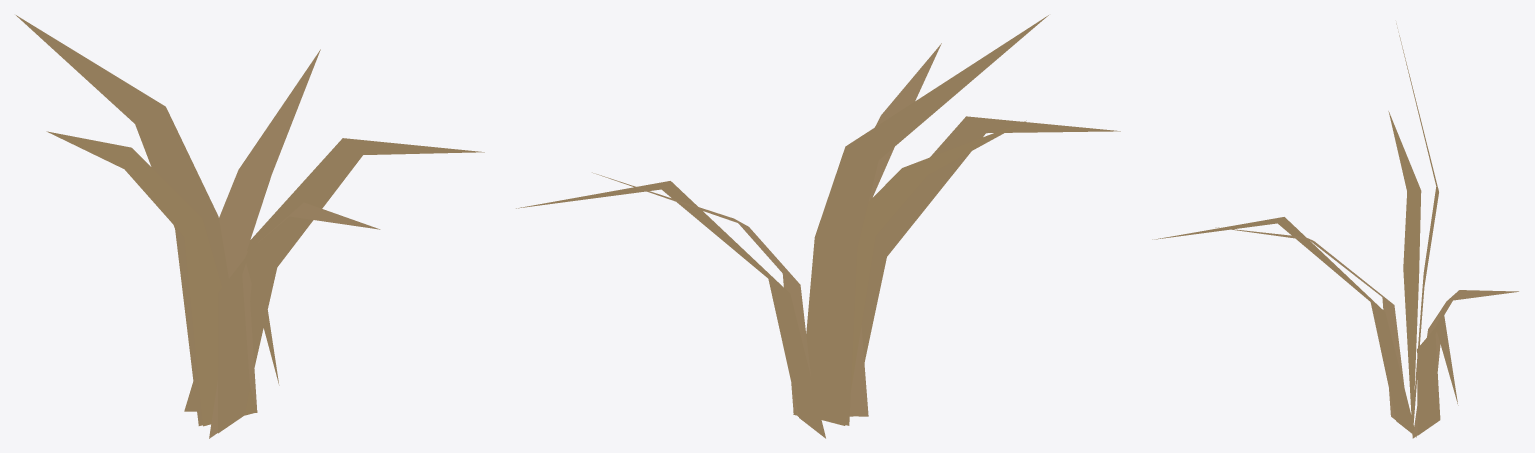
File: Grass_e_TwoS_02.fbx
3 renders of one model, left to right at view 1: azimuth 30°, elevation 25°; view 2: azimuth 150°, elevation 25°; view 3: azimuth 270°, elevation 25°, orthographic. The views are drawn at different scales.
Parts seen in each view (by area): view 1: Grass_e_TwoS_02; view 2: Grass_e_TwoS_02; view 3: Grass_e_TwoS_02.
Part boxes in pixels (<box>): Grass_e_TwoS_02: <box>16,15,484,438</box>; Grass_e_TwoS_02: <box>516,15,1120,438</box>; Grass_e_TwoS_02: <box>1152,23,1518,438</box>.
Size of the model in its own units: 0.5711 by 0.4981 by 0.4964.
